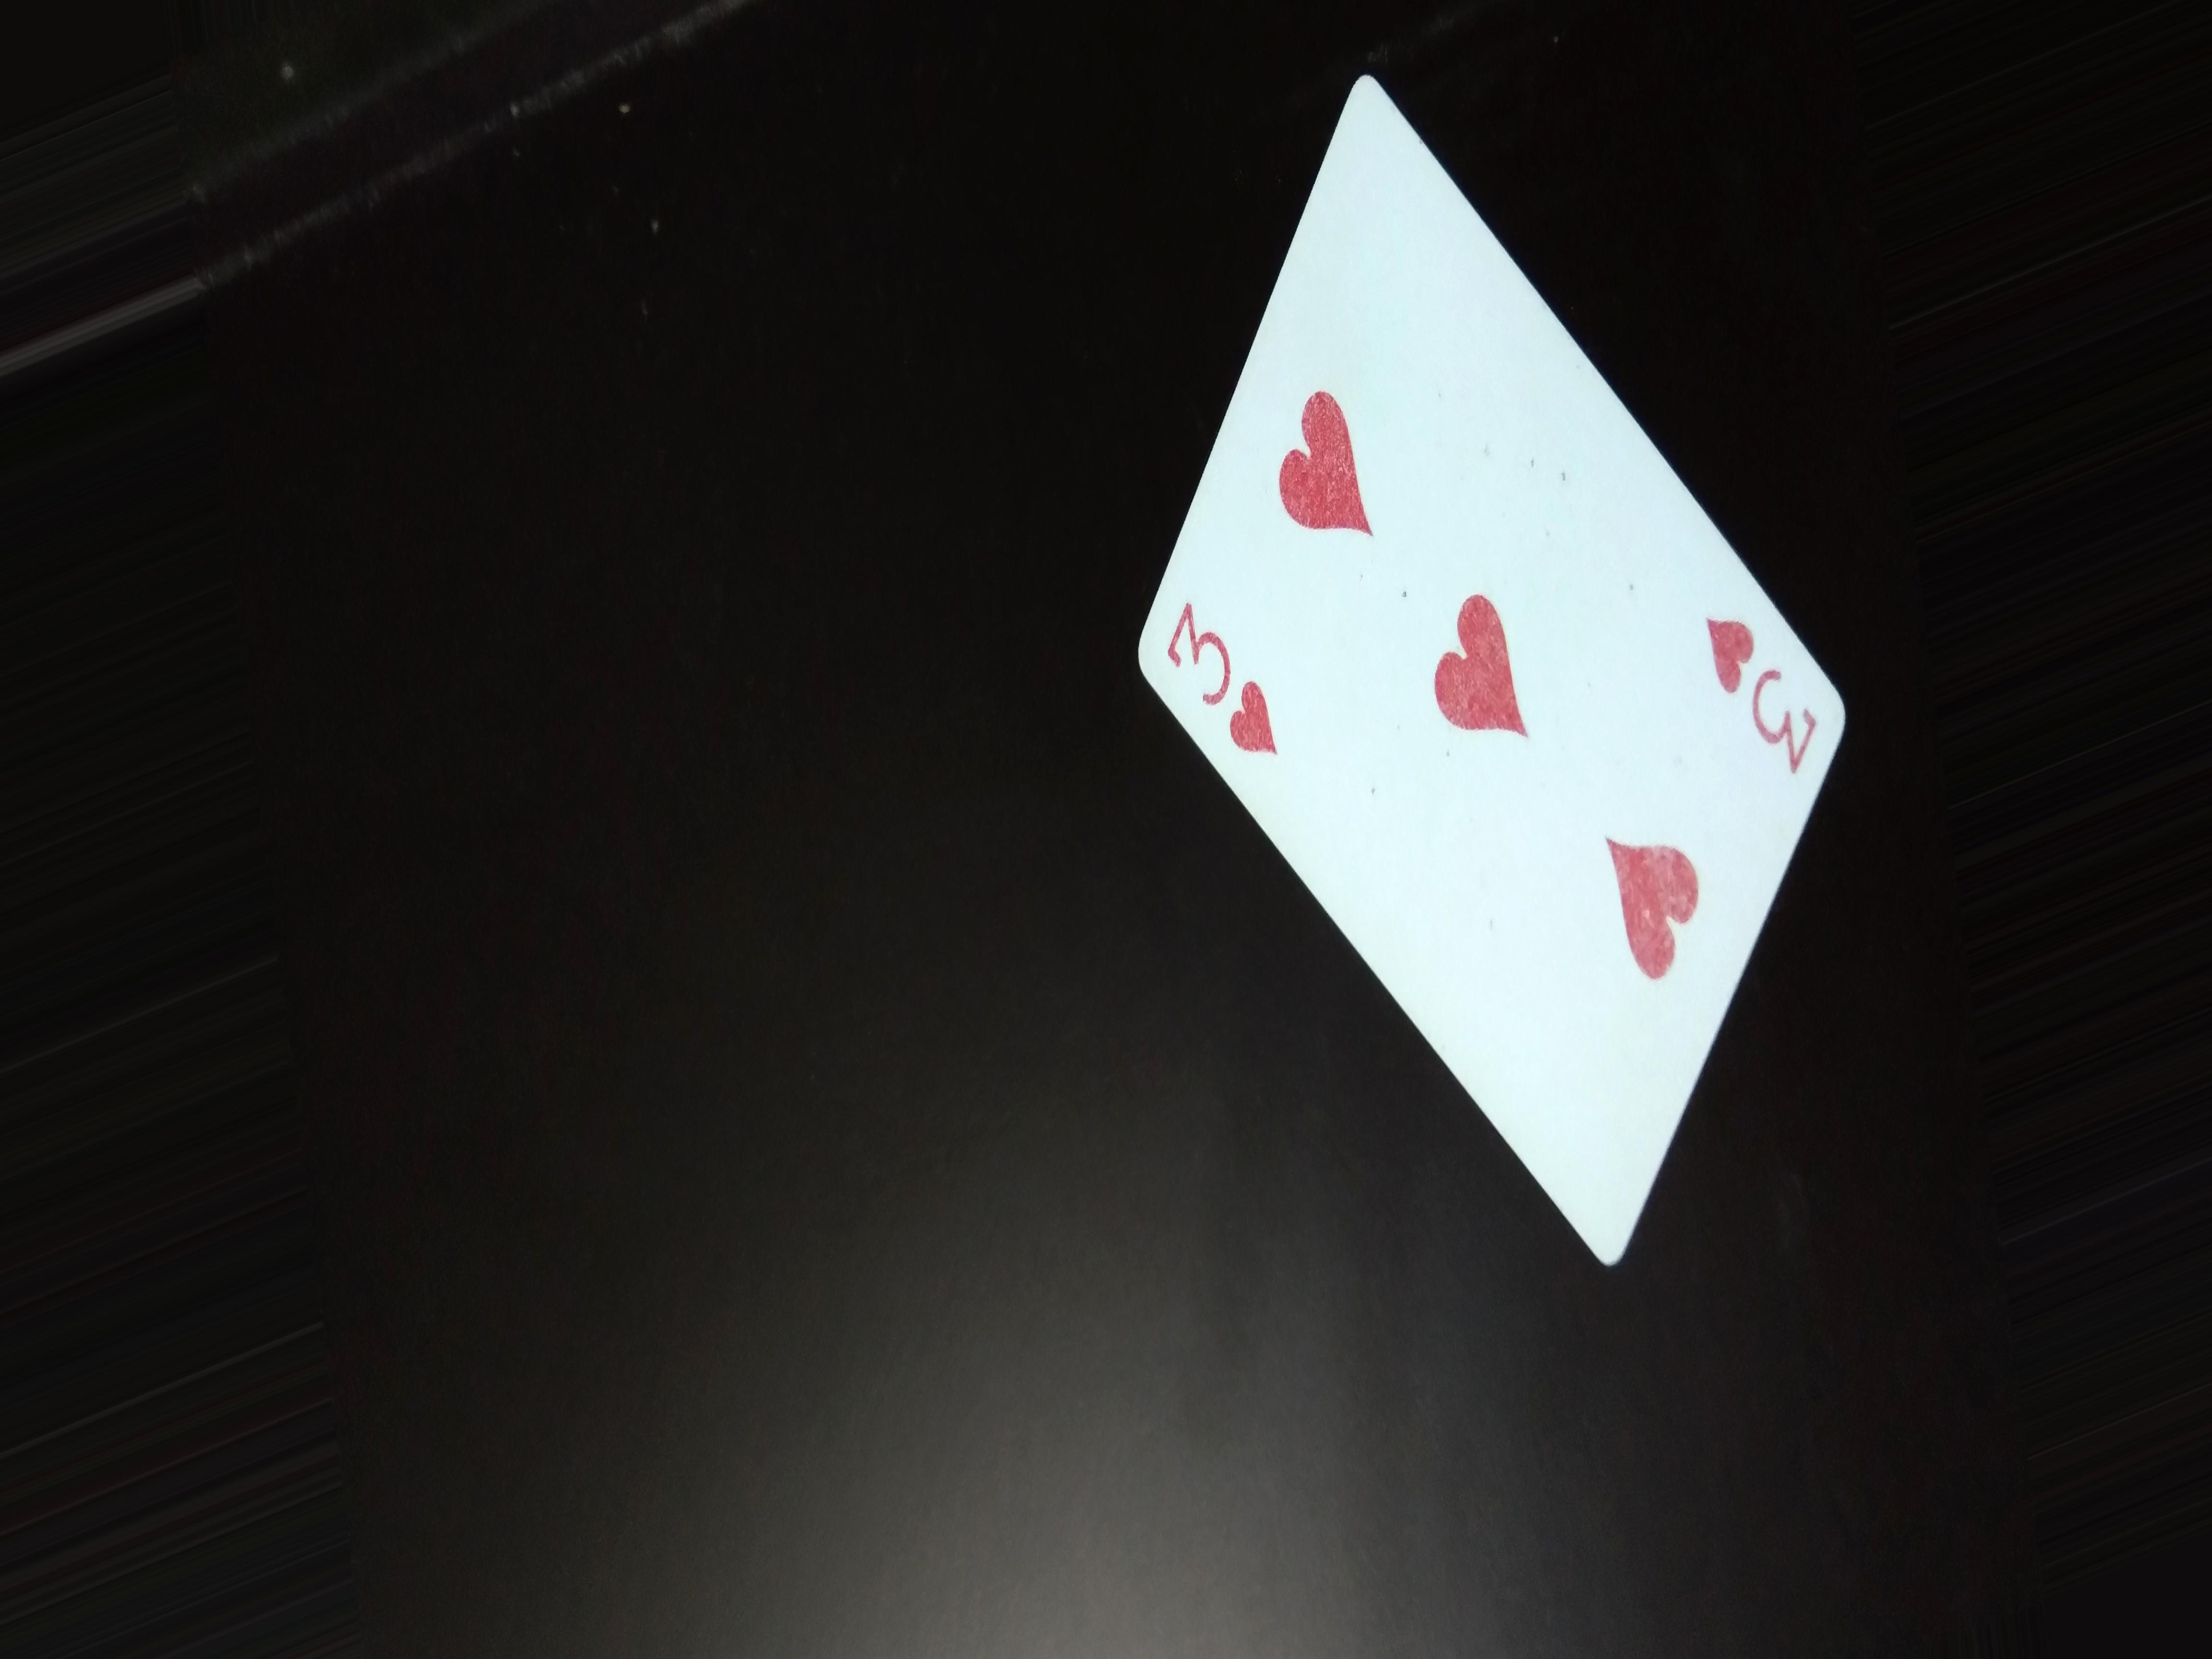3H: (1155, 587, 1275, 765)
